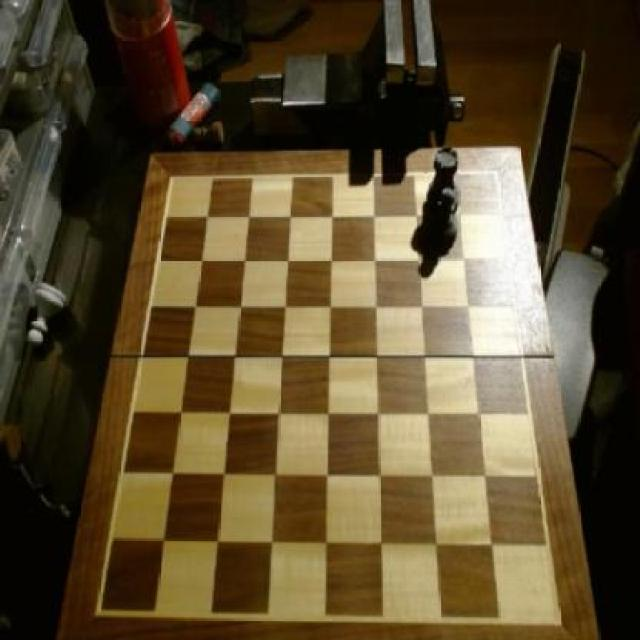black-knight: (428, 186, 460, 252)
black-queen: (424, 151, 460, 222)
